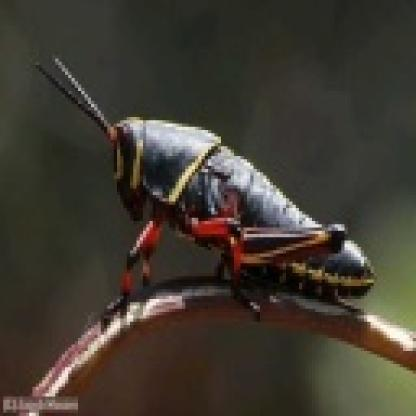grasshopper: (30, 41, 393, 334)
